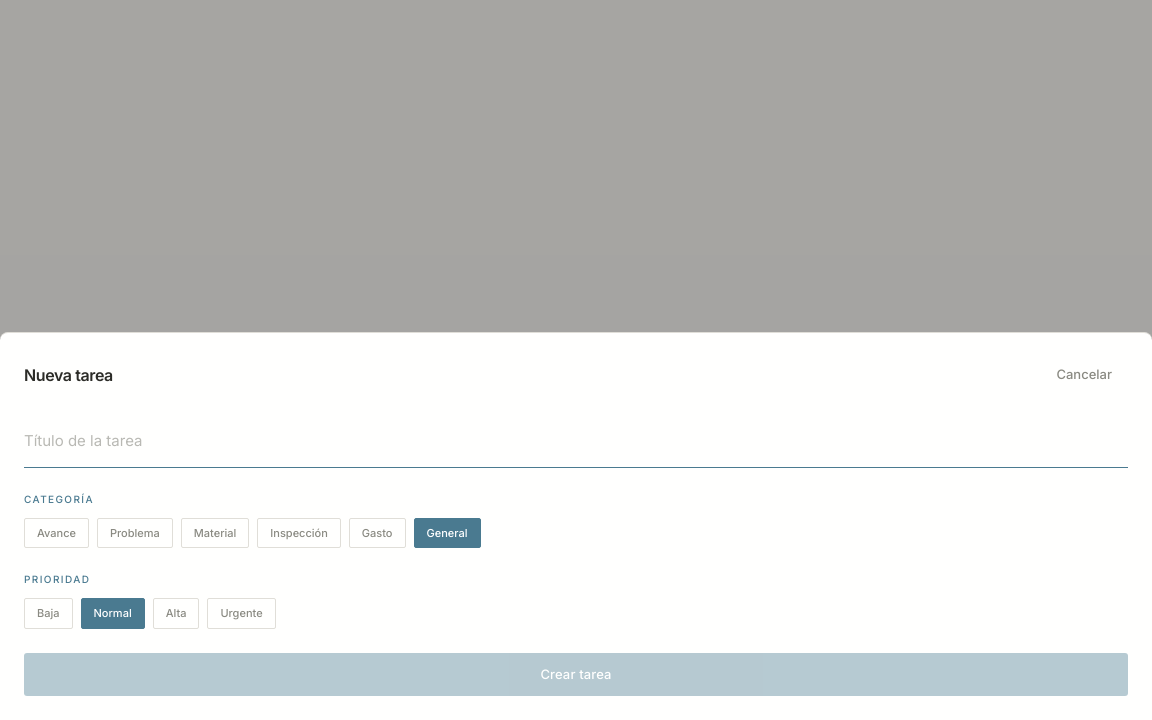
Scenario: TaskCreationForm › enables submit button when title is filled
The width and height of the screenshot is (1152, 720).
Type "Nueva tarea" into the field with test id "task-title-input" at [576, 442], box [24, 416, 1128, 468]
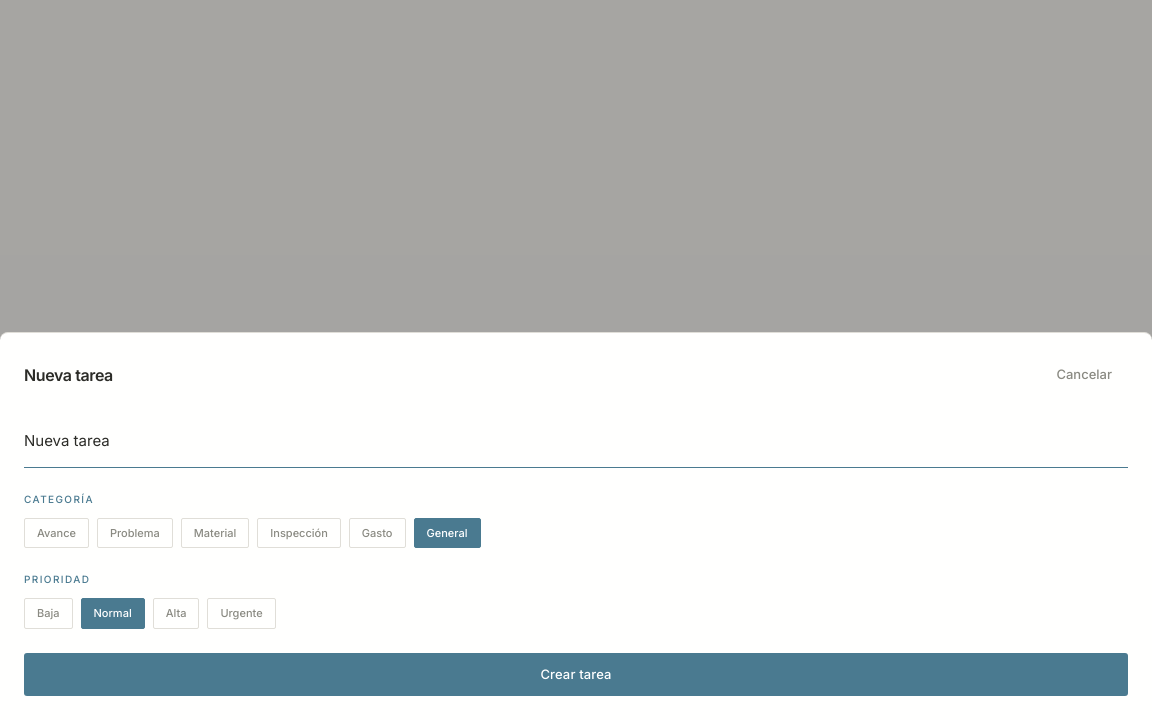
Result: the button with test id "submit-task" is enabled at [24, 652, 1128, 696]
